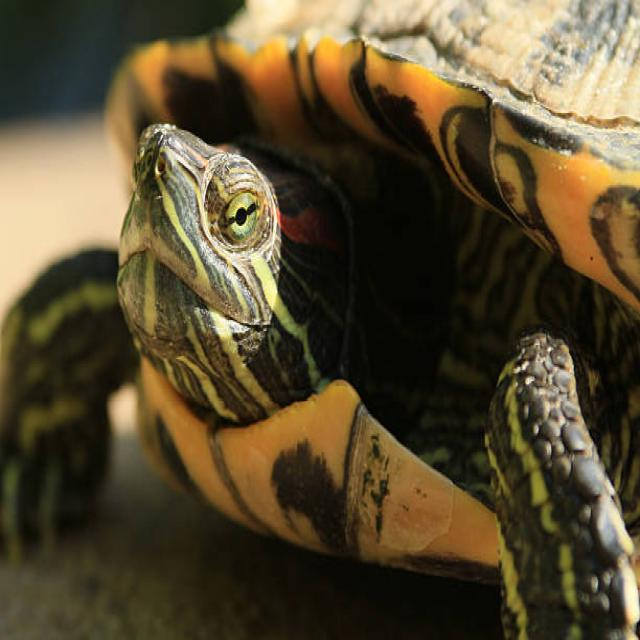terrapin: (112, 234, 640, 614), (88, 0, 640, 359), (106, 108, 344, 416), (469, 305, 640, 640), (0, 220, 104, 597)
